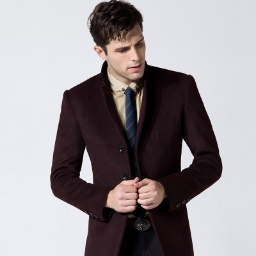face: (91, 1, 152, 78)
